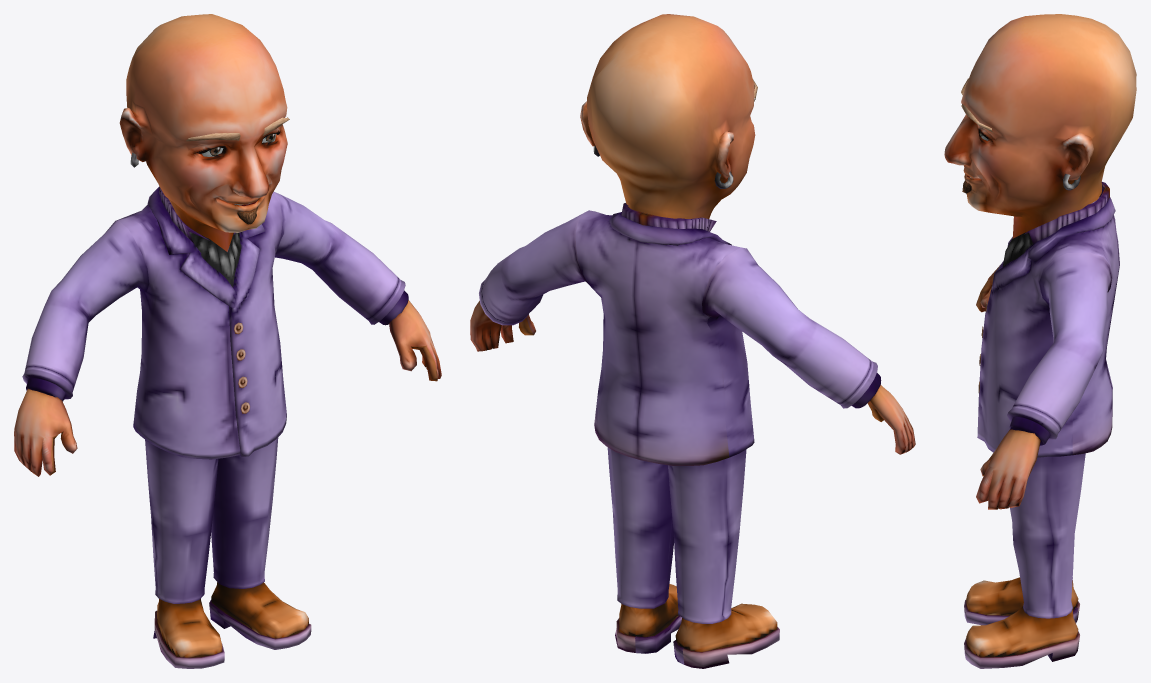
Rendered from Howie 1.obj.
3 views of the same model, side by side, from view 1: azimuth 30°, elevation 25°; view 2: azimuth 150°, elevation 25°; view 3: azimuth 270°, elevation 25° (orthographic). The views are drawn at different scales.
Visible parts, largest first — view 1: polygon0_polygon0.003, polygon9_polygon9.001, polygon5_polygon5.001, polygon4_polygon4.001, polygon2_polygon2.003, polygon8_polygon8.001; view 2: polygon0_polygon0.003, polygon9_polygon9.001, polygon5_polygon5.001, polygon4_polygon4.001, polygon2_polygon2.003; view 3: polygon0_polygon0.003, polygon9_polygon9.001, polygon5_polygon5.001, polygon4_polygon4.001, polygon2_polygon2.003, polygon8_polygon8.001.
Part boxes in pixels (x1,y1,x2,y2): polygon0_polygon0.003: (22, 186, 405, 603); polygon9_polygon9.001: (119, 14, 287, 251); polygon5_polygon5.001: (153, 582, 311, 668); polygon4_polygon4.001: (14, 300, 441, 476); polygon2_polygon2.003: (26, 187, 408, 401); polygon8_polygon8.001: (186, 116, 289, 224); polygon0_polygon0.003: (479, 210, 877, 623); polygon9_polygon9.001: (580, 14, 755, 218); polygon5_polygon5.001: (615, 584, 779, 668); polygon4_polygon4.001: (470, 301, 915, 454); polygon2_polygon2.003: (621, 203, 881, 408); polygon0_polygon0.003: (977, 189, 1119, 618); polygon9_polygon9.001: (944, 14, 1136, 238); polygon5_polygon5.001: (964, 577, 1079, 668); polygon4_polygon4.001: (976, 265, 1040, 509); polygon2_polygon2.003: (1002, 182, 1109, 445); polygon8_polygon8.001: (961, 78, 994, 193).
Size of the model in its own units: 1.26 by 1.74 by 0.494.
10 materials, 10 textured.
